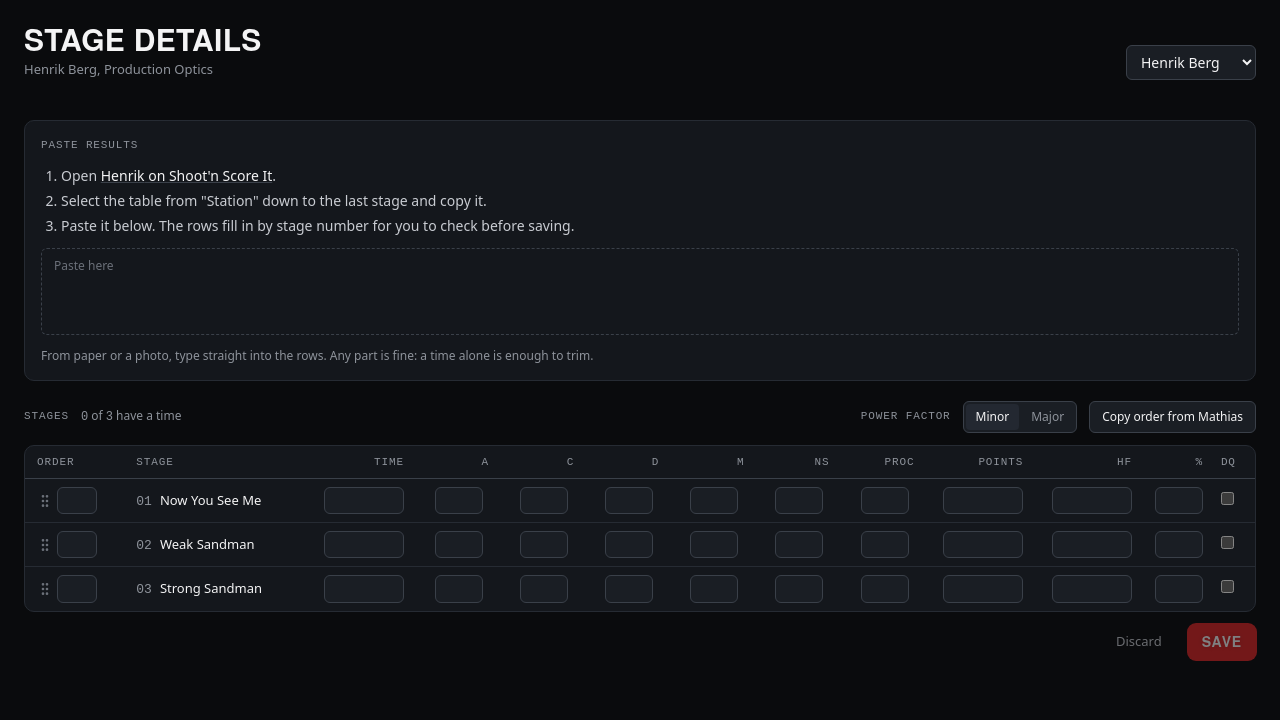
Test: Stage details › works out points and hit factor from typed hits
This screenshot has width=1280, height=720.
Type "20,95" into the field named "Time, stage 02" at point(364, 545), box [324, 531, 404, 558]
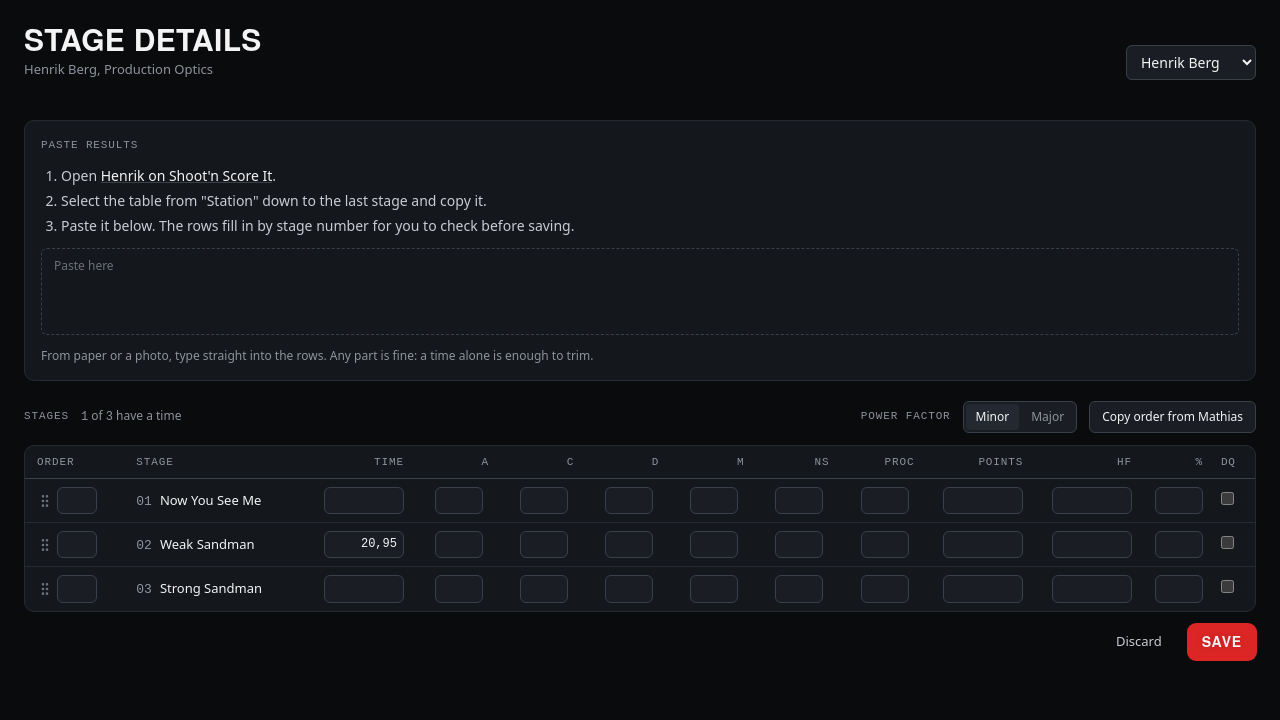
Type "9" into the field named "A, stage 02" at point(459, 545), box [435, 531, 483, 558]
Type "1" into the field named "C, stage 02" at point(544, 545), box [520, 531, 568, 558]
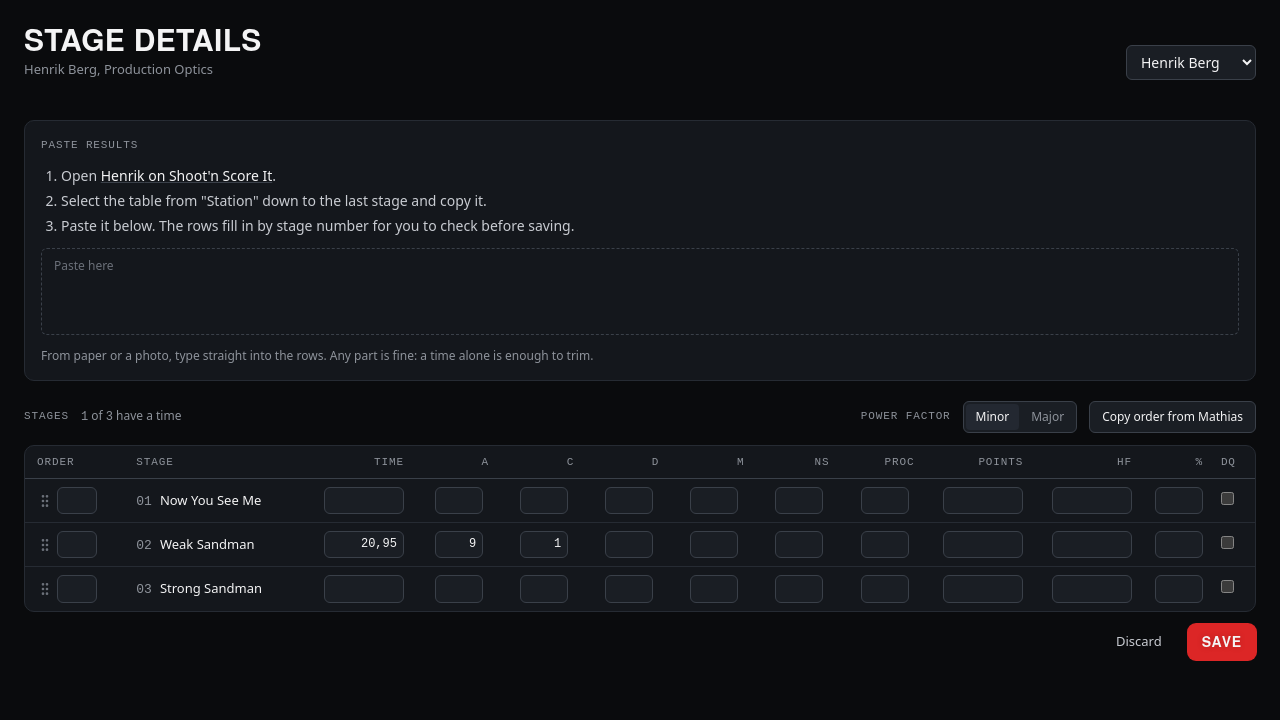
Type "0" into the field named "D, stage 02" at point(629, 545), box [605, 531, 653, 558]
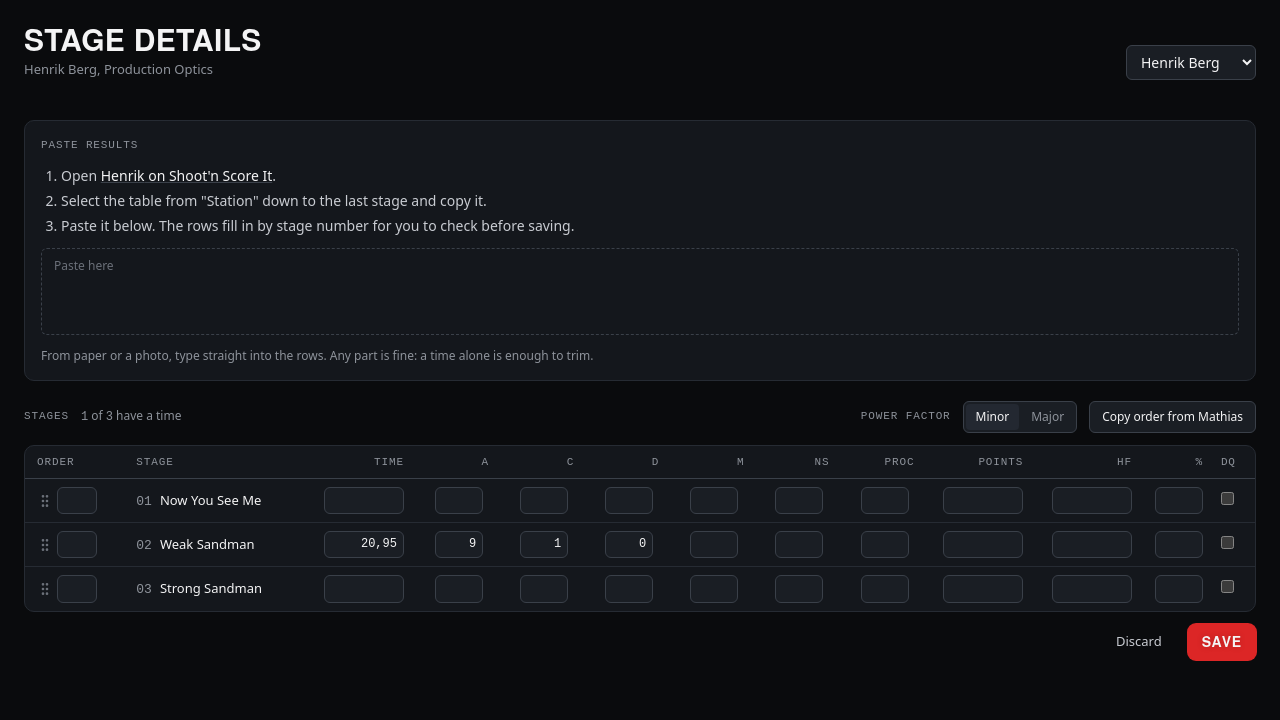
Type "0" into the field named "M, stage 02" at point(714, 545), box [690, 531, 738, 558]
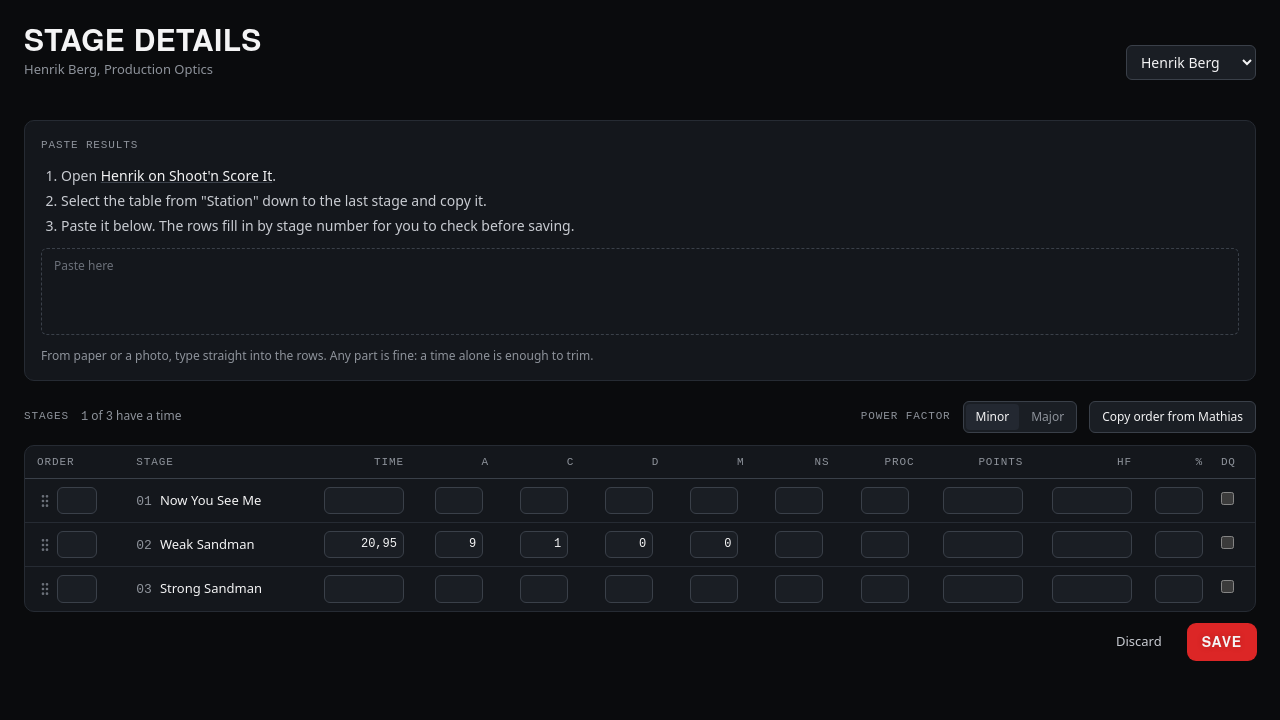
Type "0" into the field named "NS, stage 02" at point(800, 545), box [776, 531, 824, 558]
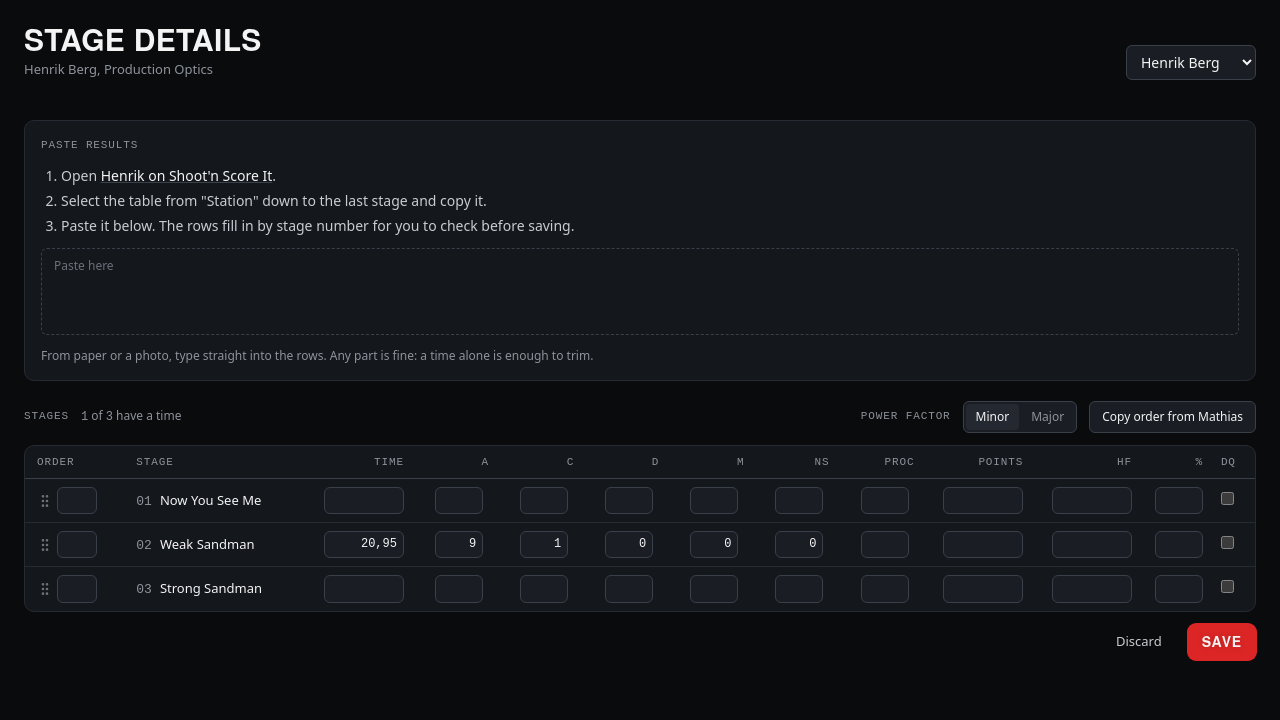
Type "0" into the field named "Proc, stage 02" at point(884, 545), box [860, 531, 908, 558]
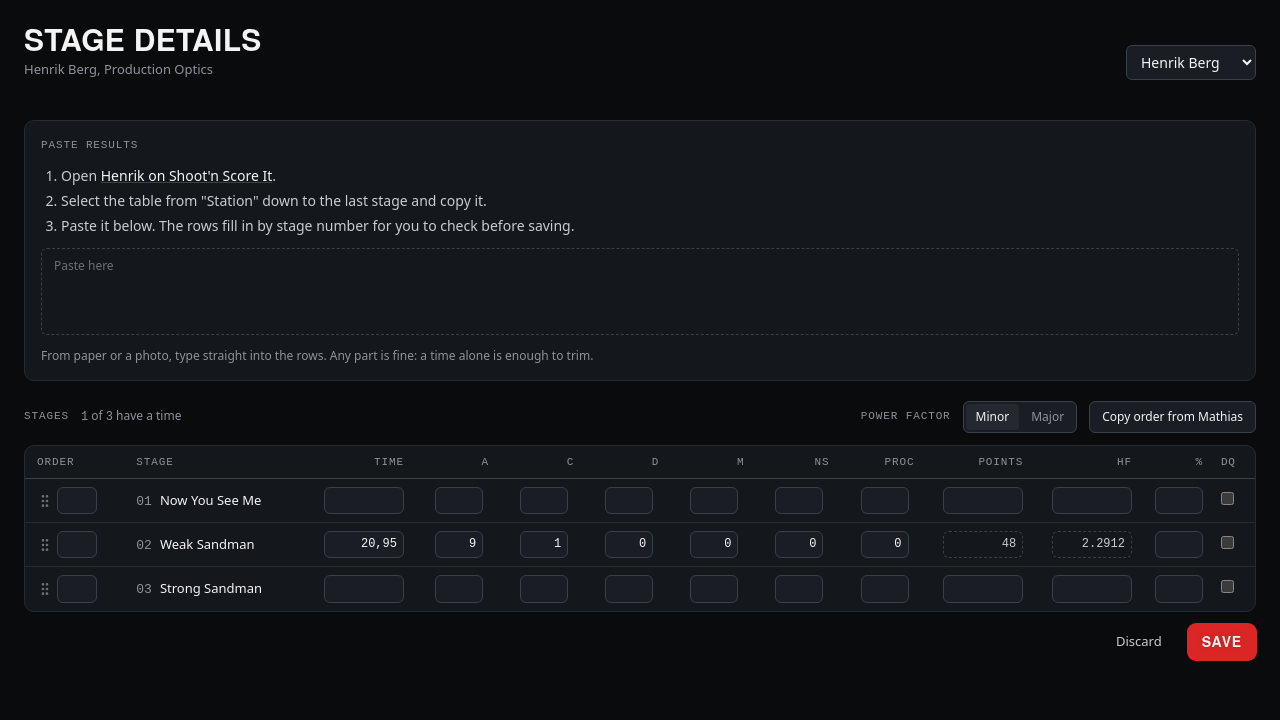
Expected: the field named "Points, stage 02" holds "48", [943, 531, 1023, 558]
Expected: the field named "Hit factor, stage 02" holds "2.2912", [1052, 531, 1132, 558]
